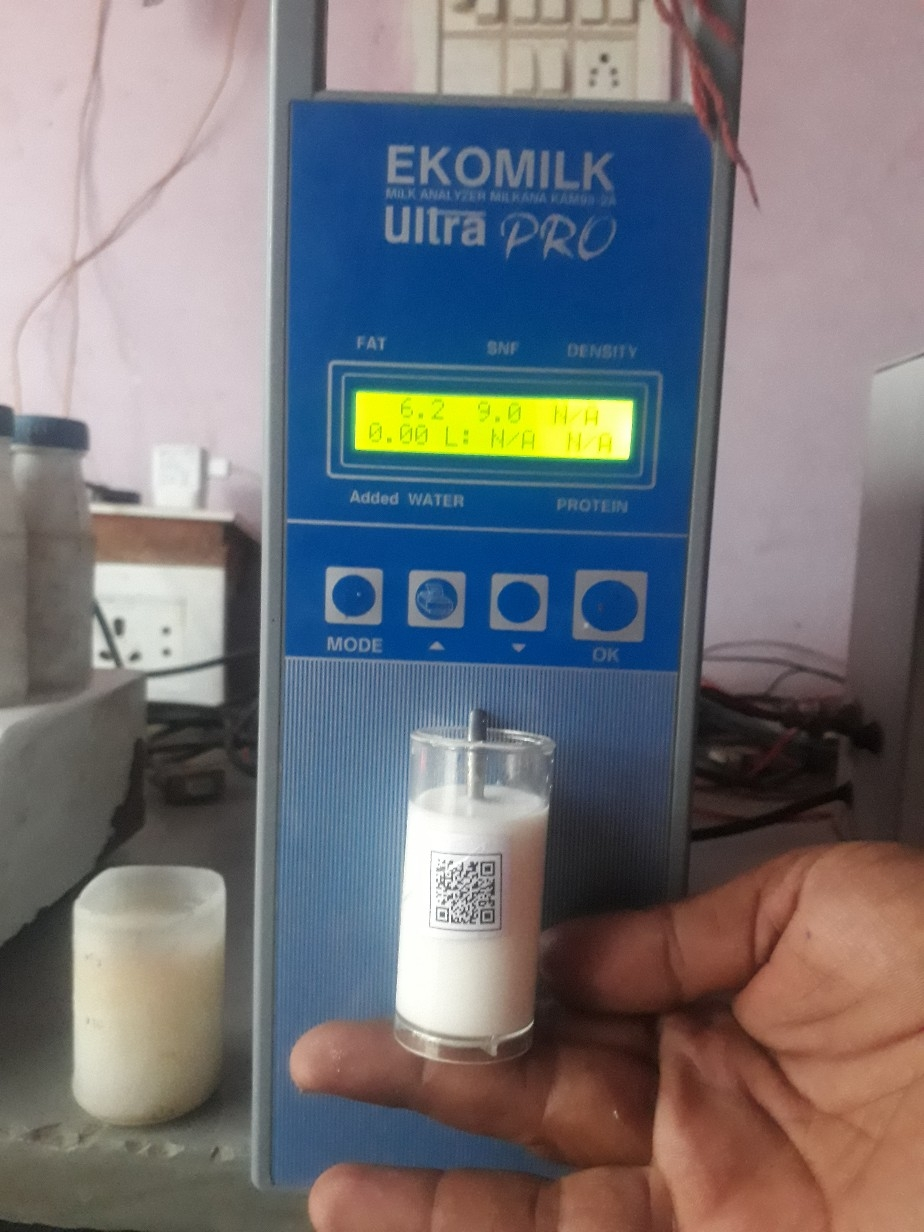lcd: (346, 374, 646, 482)
qr: (420, 838, 531, 948)
